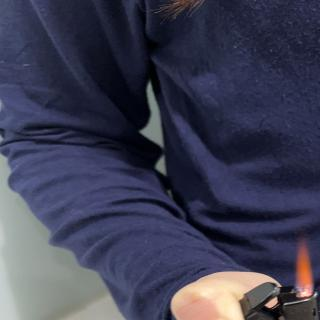fire: (293, 236, 314, 296)
